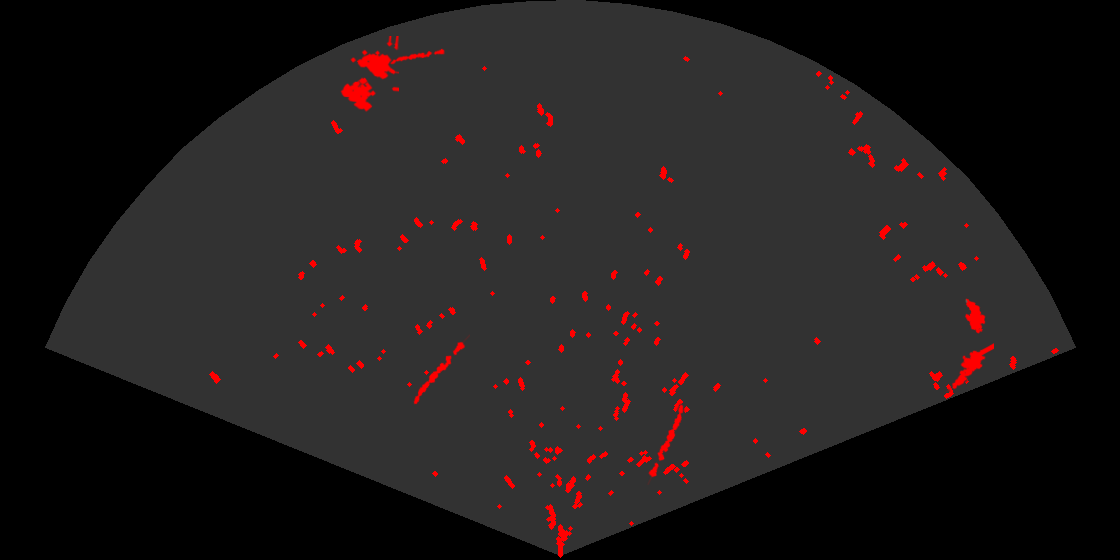AUV: (963, 297, 987, 335)
cage: (339, 36, 399, 114)
chain: (412, 333, 470, 406), (646, 403, 685, 485), (386, 47, 445, 66)
frogman: (944, 342, 994, 392)
